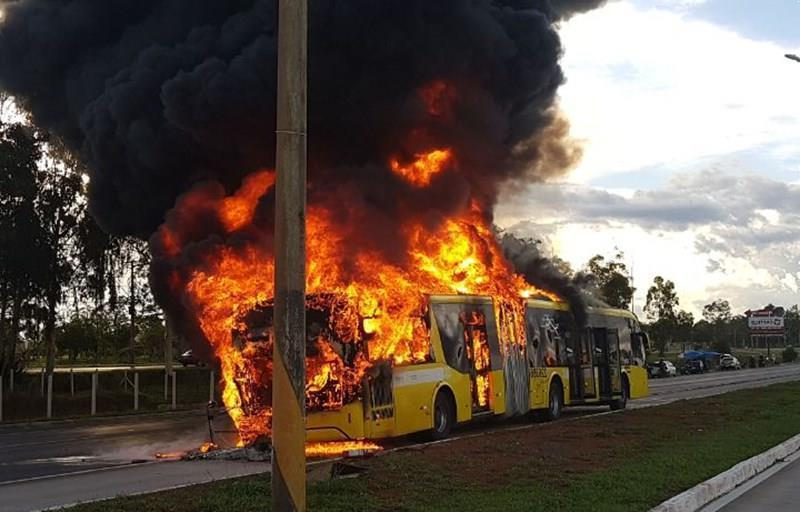Fire: (167, 136, 565, 458)
